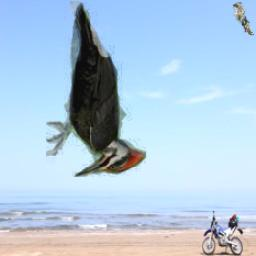Cuckoo: (232, 2, 253, 35)
Woodpecker: (45, 1, 145, 177)
